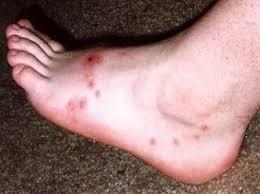Ants: (66, 96, 86, 115), (81, 52, 99, 70), (84, 76, 97, 88), (171, 137, 183, 147), (200, 124, 212, 134), (92, 89, 102, 99), (192, 132, 201, 140), (149, 138, 157, 146)
